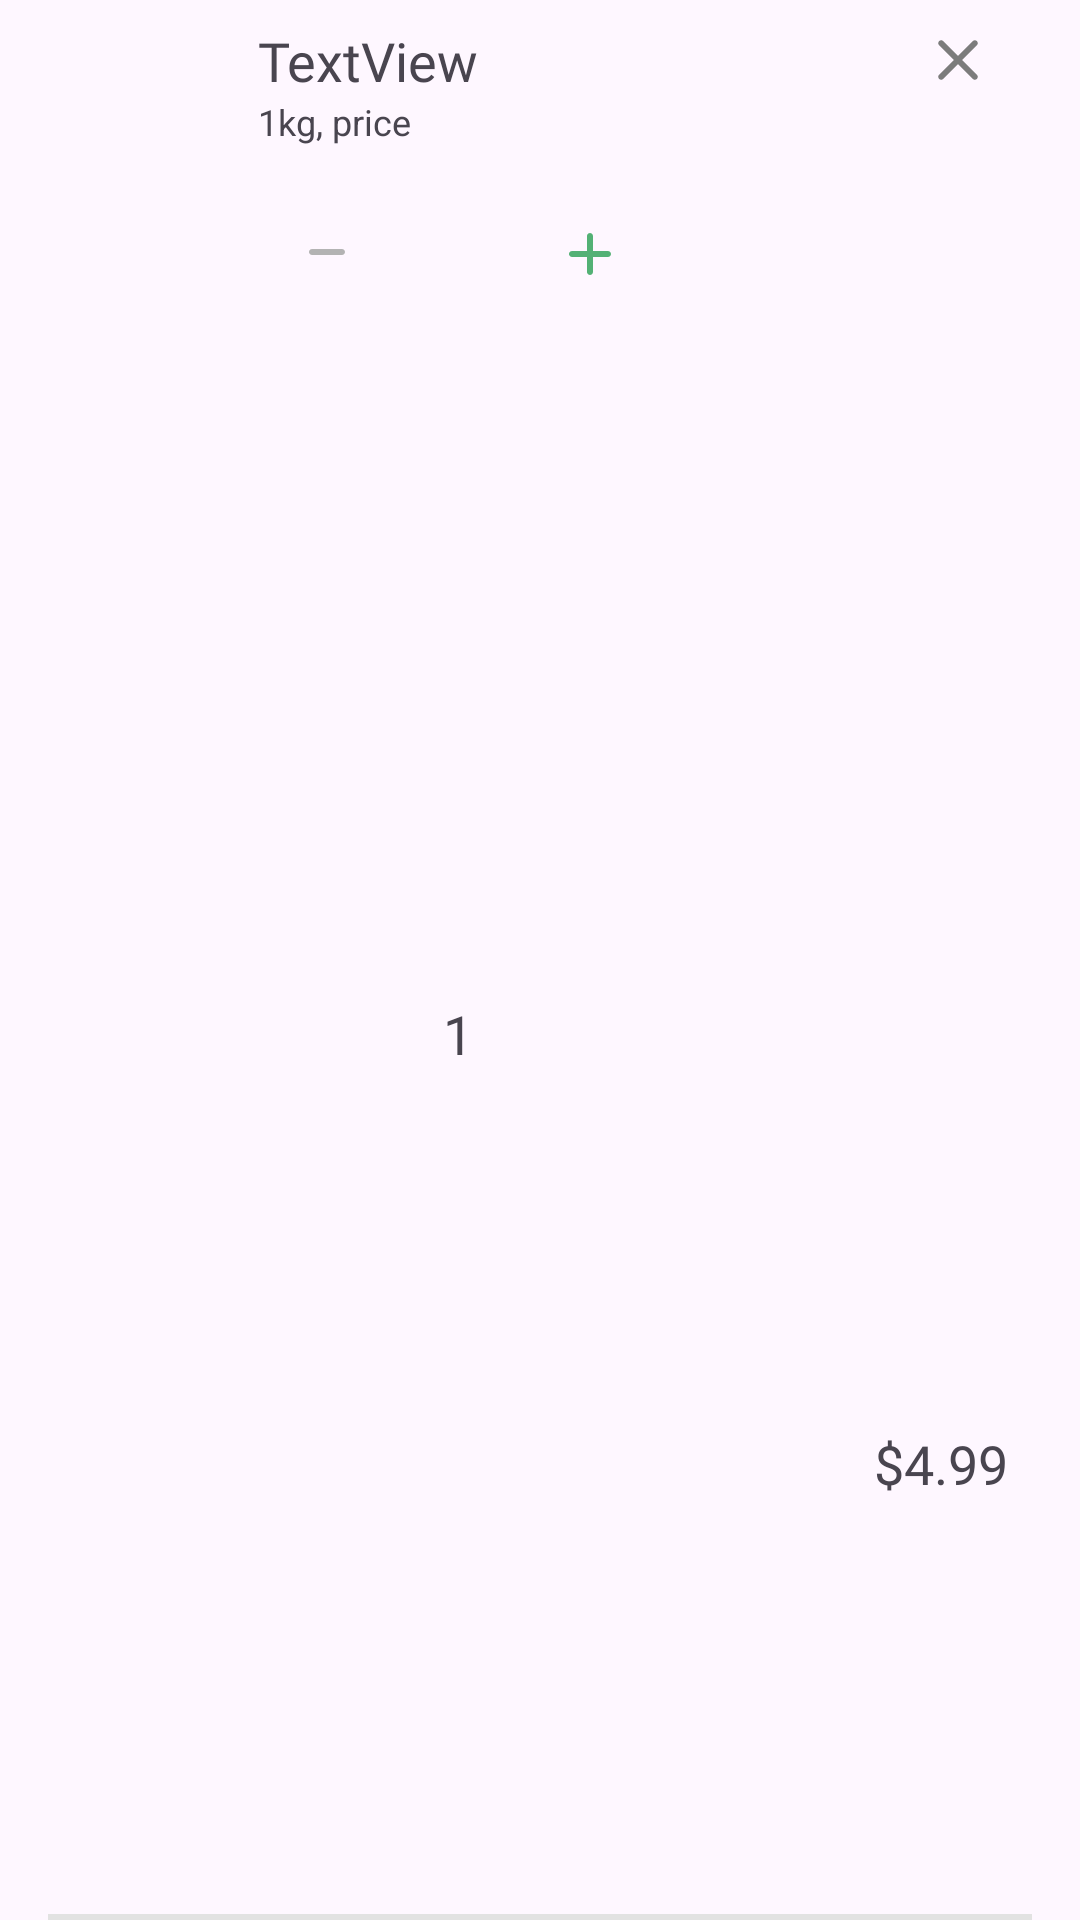

Icons on this 1080x1920 Android screen, each with its box as (x1, y1, x2, y2):
add: (569, 233, 611, 275)
close: (938, 40, 978, 80)
